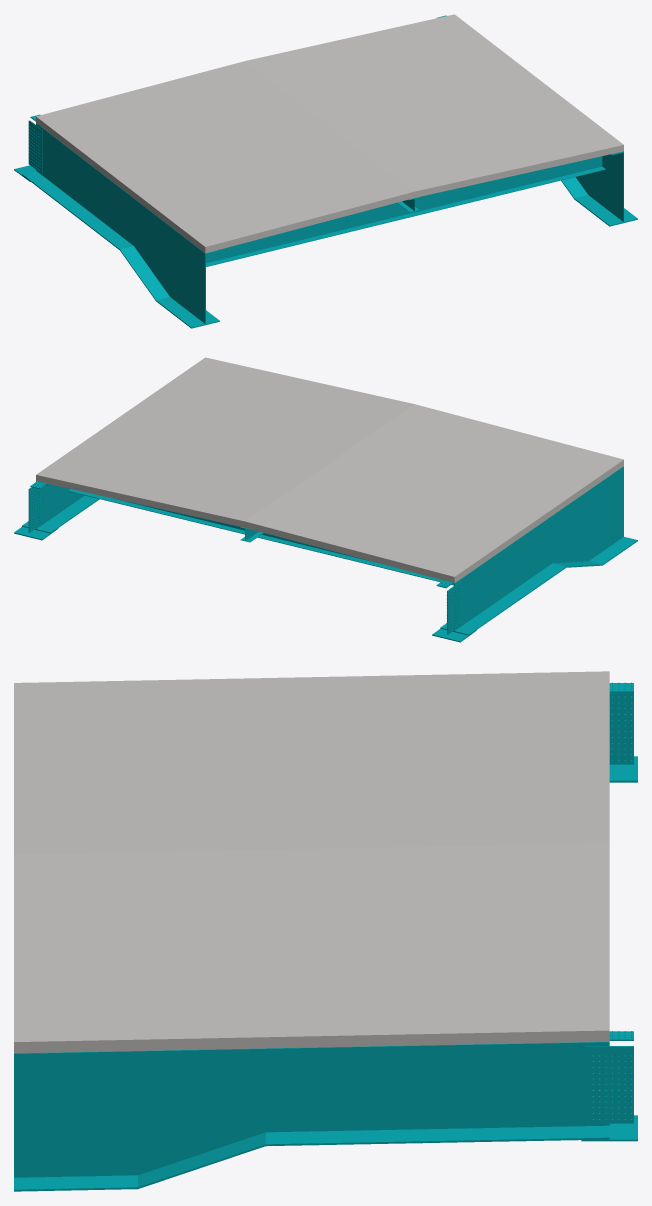
The model's file is DECK_NN07.glb.
The picture shows the model from 3 angles, top to bottom: view 1: azimuth 30°, elevation 25°; view 2: azimuth 150°, elevation 25°; view 3: azimuth 270°, elevation 25°; orthographic projection. The views are drawn at different scales.
Visible parts, largest first — view 1: NN07_Slab_15, NN07_G_W_0, NN07_FB_web_11, NN07_G_E_1, NN07_FB_bf_14, NN07_SpliceW_17; view 2: NN07_Slab_15, NN07_G_W_0, NN07_G_E_1, NN07_FB_bf_6, NN07_SpliceW_17, NN07_SpliceW_25, NN07_FB_web_3; view 3: NN07_Slab_15, NN07_G_E_1, NN07_SpliceW_26, NN07_SpliceW_18.
Part boxes in pixels (box(x1,y1,x2,y2)): NN07_Slab_15: box(36, 14, 623, 253); NN07_G_W_0: box(22, 123, 219, 328); NN07_FB_web_11: box(206, 156, 602, 263); NN07_G_E_1: box(561, 151, 637, 226); NN07_FB_bf_14: box(206, 166, 605, 266); NN07_SpliceW_17: box(28, 121, 42, 174); NN07_Slab_15: box(36, 357, 623, 583); NN07_G_W_0: box(440, 466, 637, 635); NN07_G_E_1: box(22, 481, 99, 533); NN07_FB_bf_6: box(68, 489, 453, 585); NN07_SpliceW_17: box(447, 581, 461, 634); NN07_SpliceW_25: box(29, 487, 43, 532); NN07_FB_web_3: box(114, 498, 374, 562); NN07_Slab_15: box(14, 671, 609, 1053); NN07_G_E_1: box(14, 1041, 609, 1191); NN07_SpliceW_26: box(585, 1046, 633, 1123); NN07_SpliceW_18: box(609, 692, 633, 764).
Bounding box in the file's own units: 18.26 × 3.49 × 12.57.
